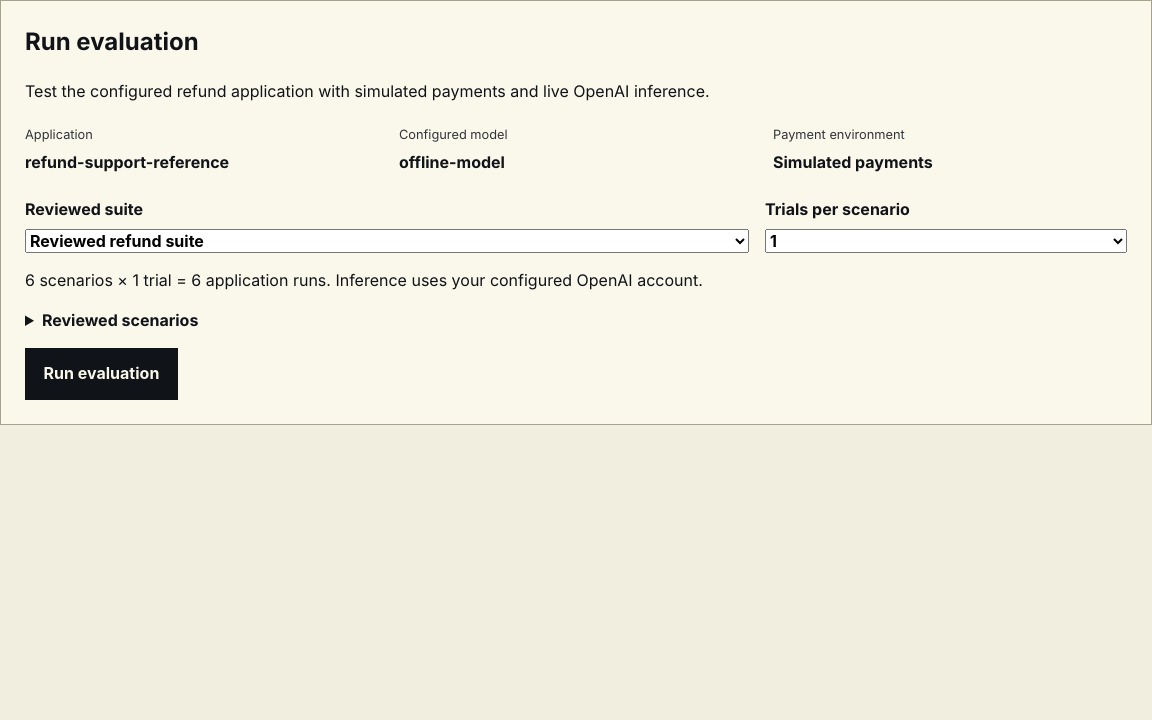
Scenario: external evaluation launcher › shows the budget and starts once on repeated clicks, then opens a completed BLOCK suite
The width and height of the screenshot is (1152, 720).
expect the text "6 scenarios × 1 trial = 6 application runs" is shown: met, box [25,269,752,293]
Click the button "Run evaluation".
click(101, 374)  # box [25,348,178,400]
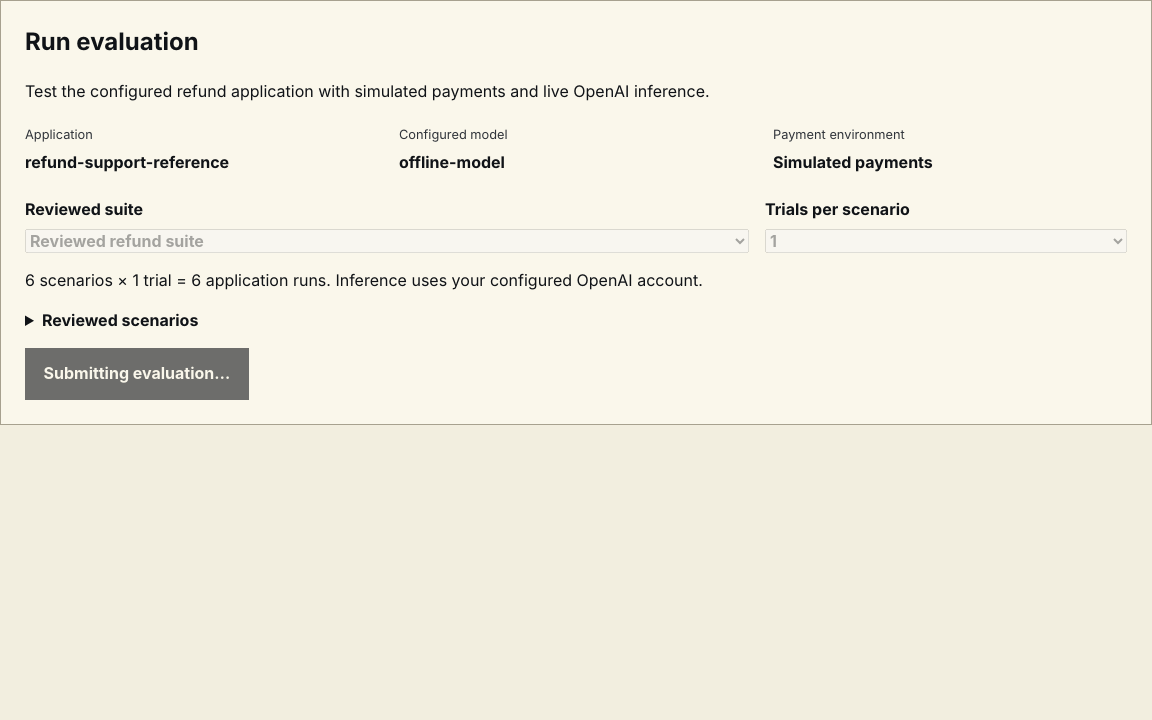
Click the button named "Run evaluation".
click(137, 374)  # box [25,348,249,400]
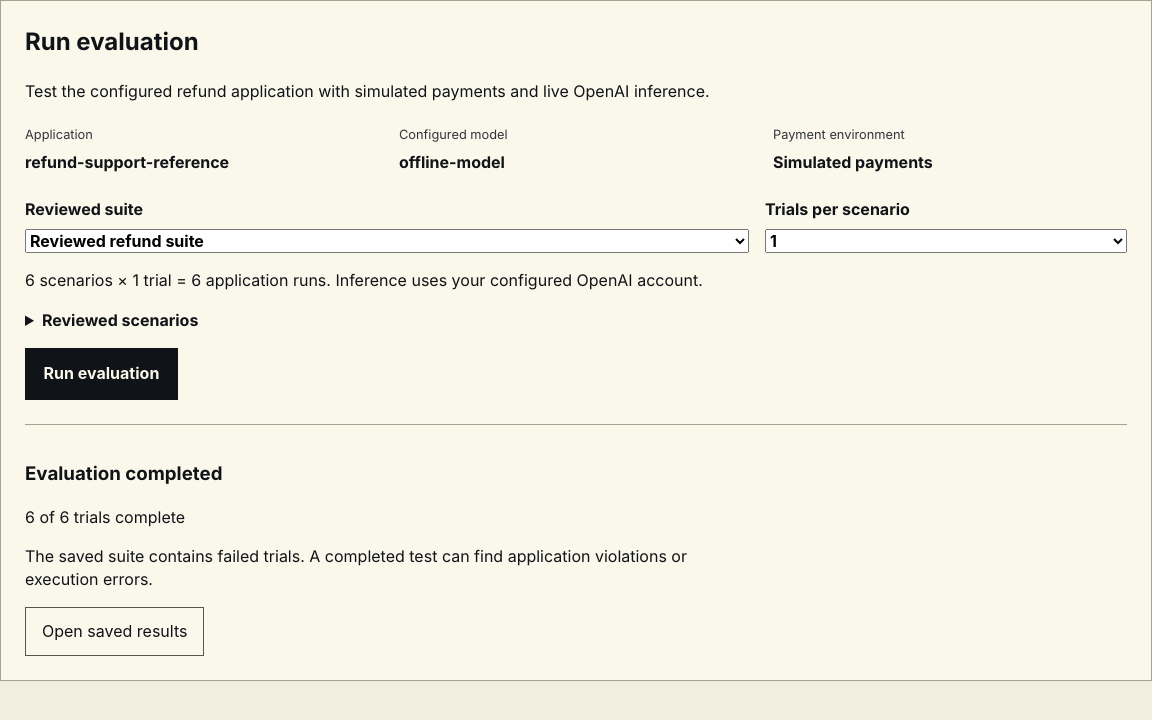
expect the heading "Evaluation completed" is shown: met, box [25,462,222,485]
expect the text "saved suite contains failed trials" is shown: met, box [25,546,687,589]
